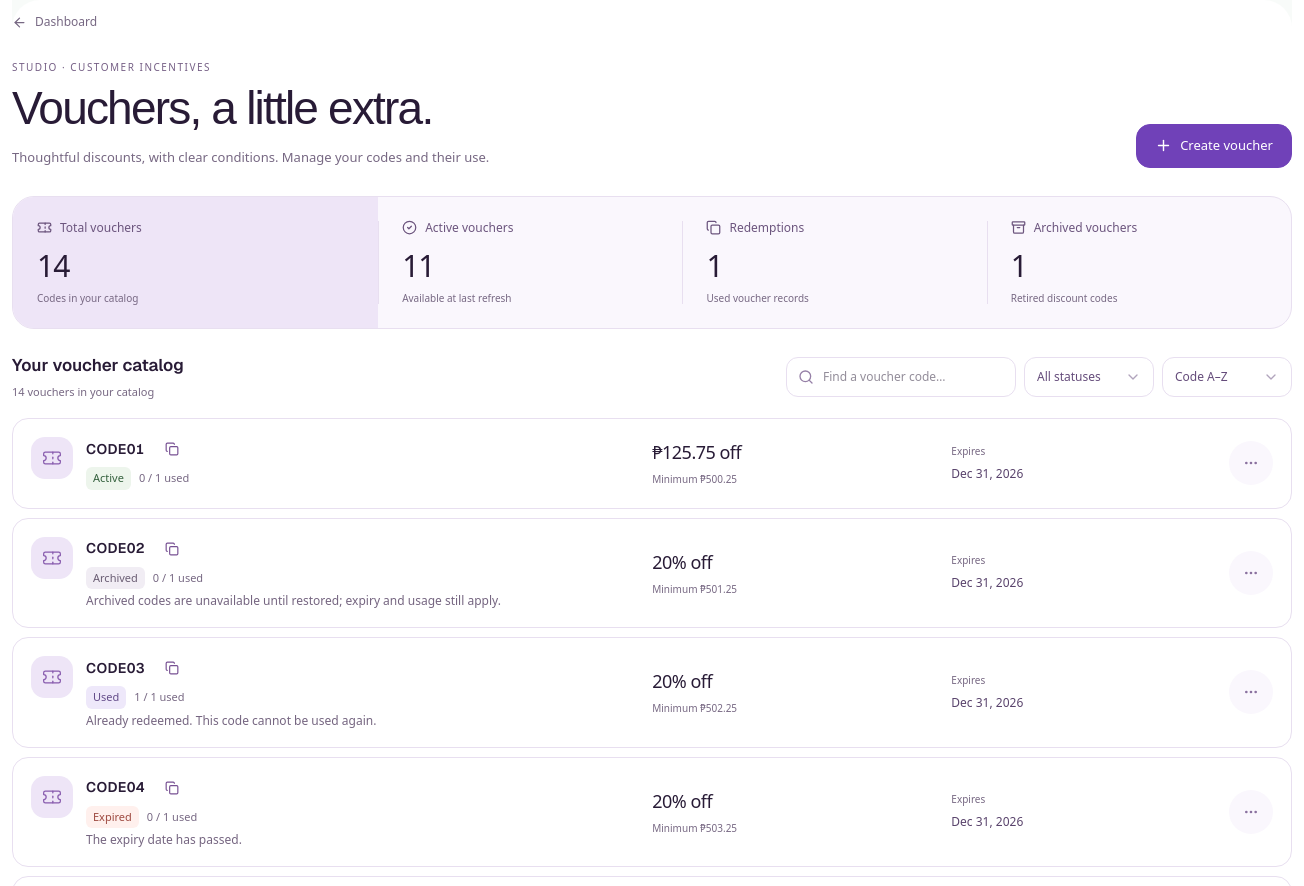
Test: redesign vouchers › uses server eligibility after restoring rather than resetting usage or expiry
Press ArrowDown in the button named "Actions for CODE02", box [1229,551,1273,595]
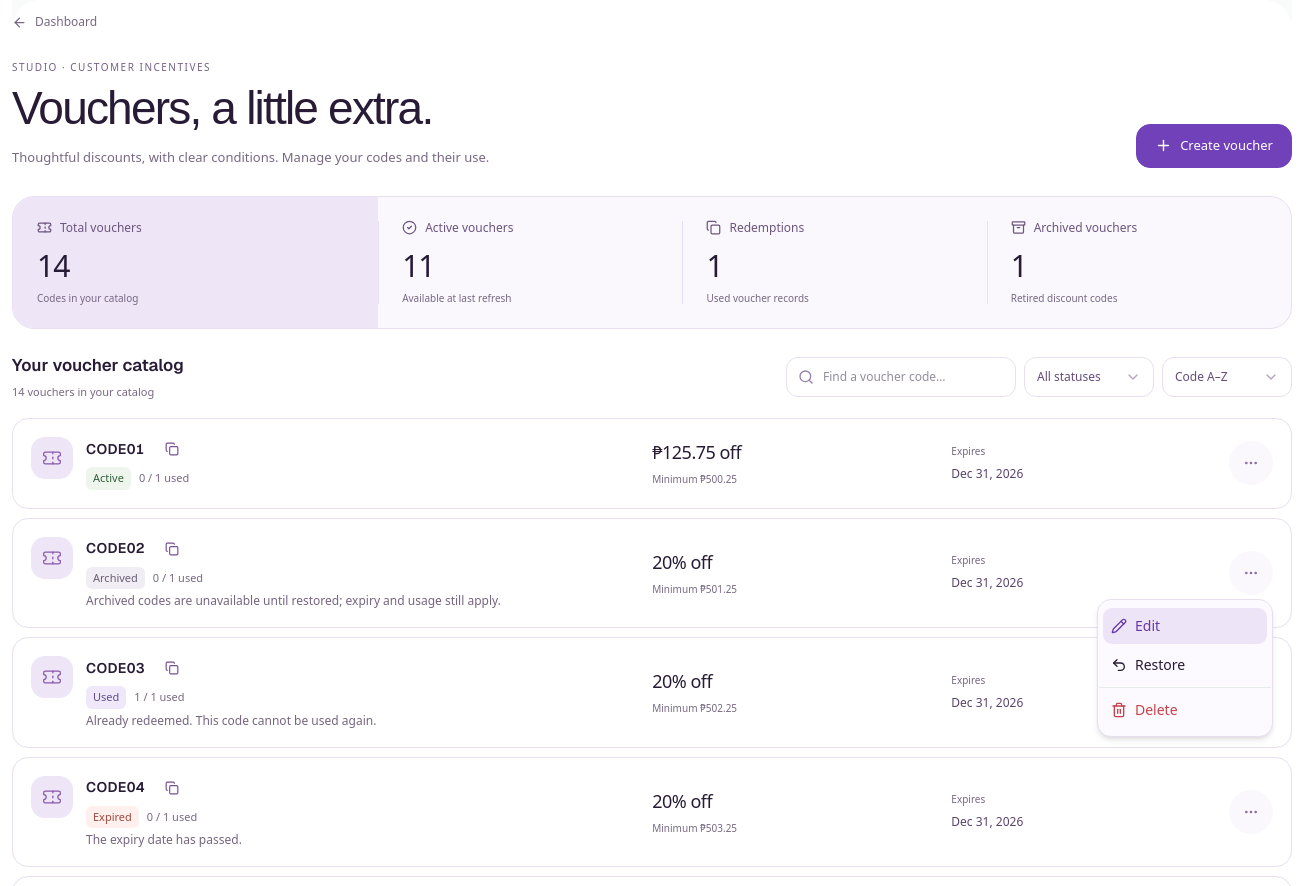
Click the menu item "Restore".
click(1148, 664)  # box [1111,655,1185,674]
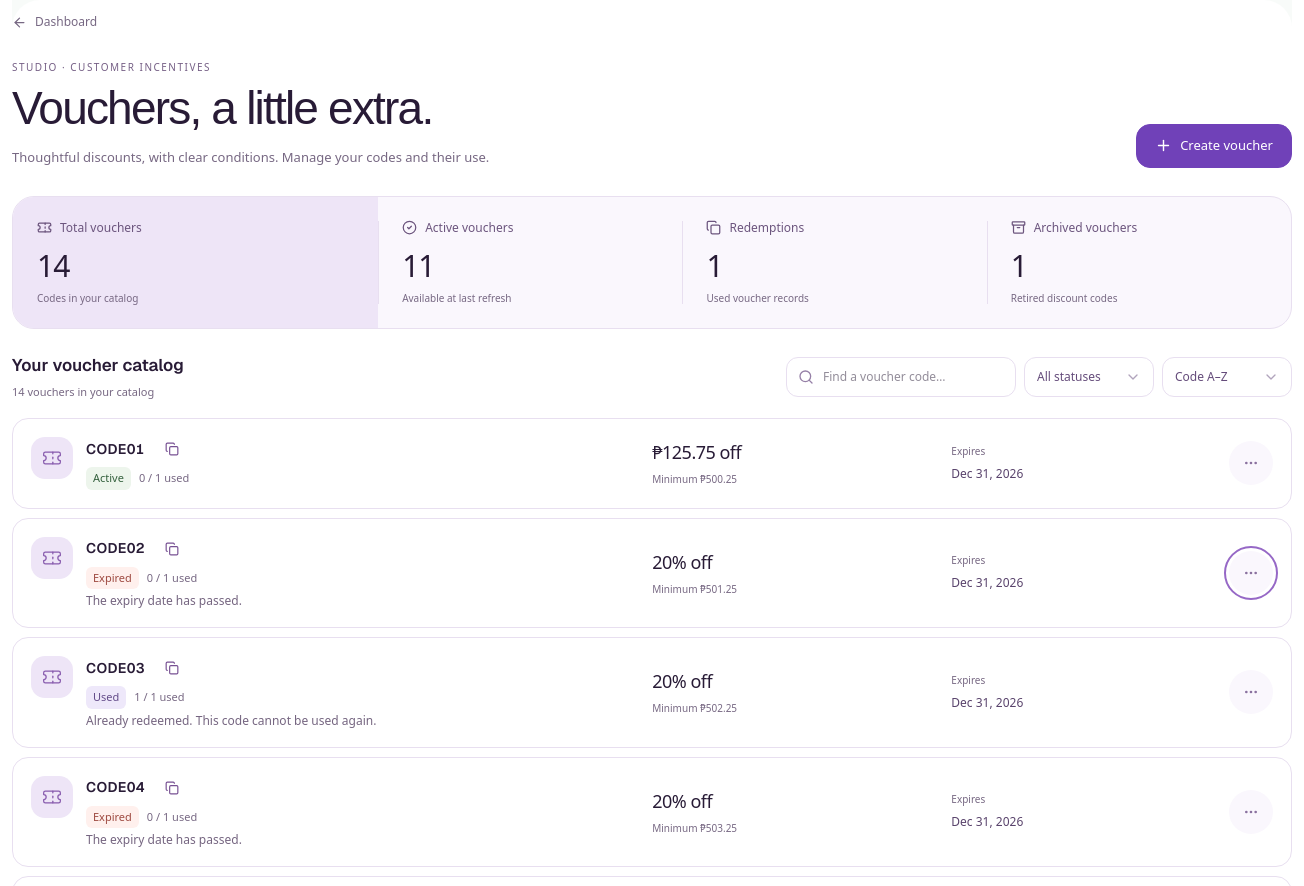
expect the list item that starts with "CODE02" shows "expired": met, box [93,570,132,585]
Press ArrowDown in the button named "Actions for CODE03", box [1229,670,1273,714]
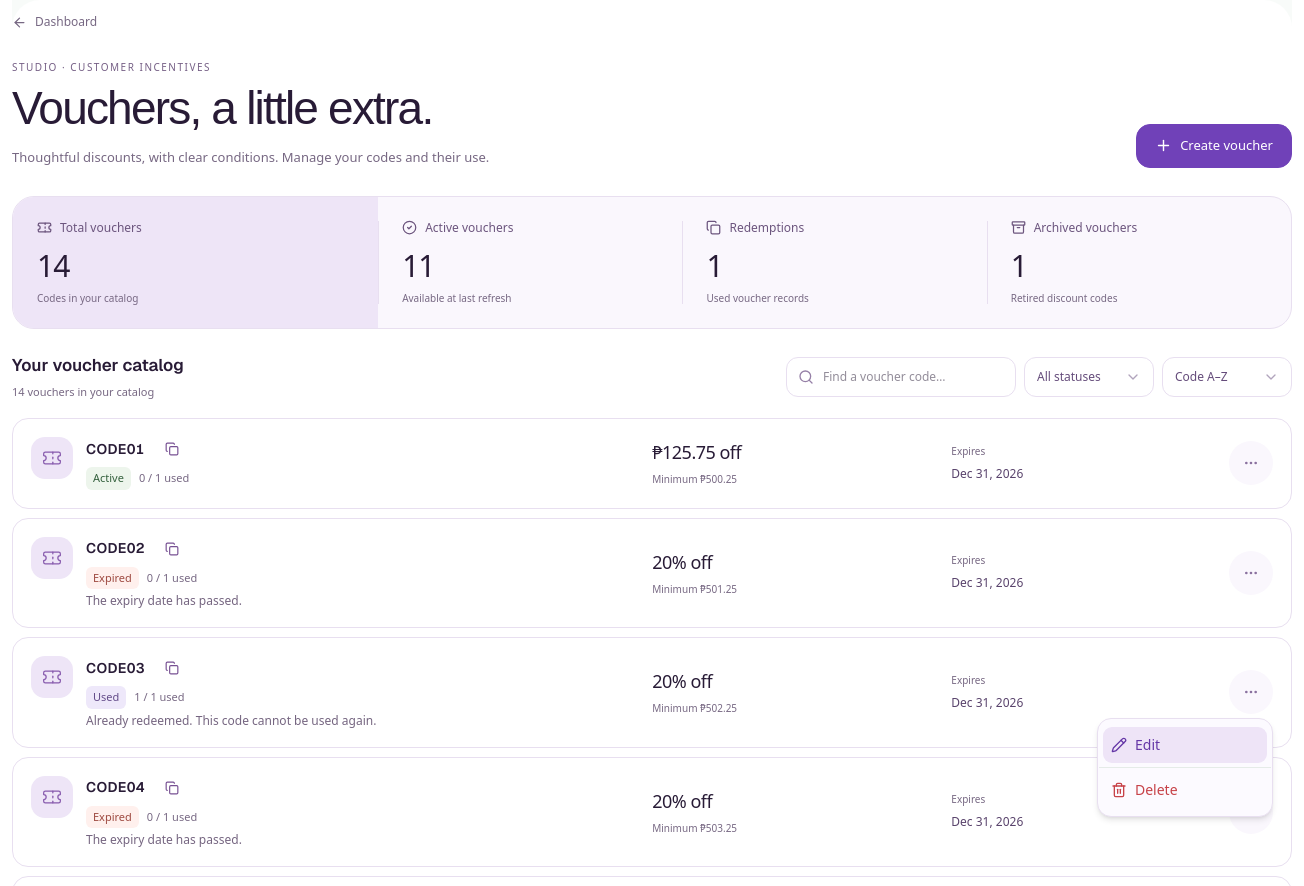
expect the text "restore" is not shown: met
expect the menu item "Edit" is shown: met, box [1103,727,1267,763]
